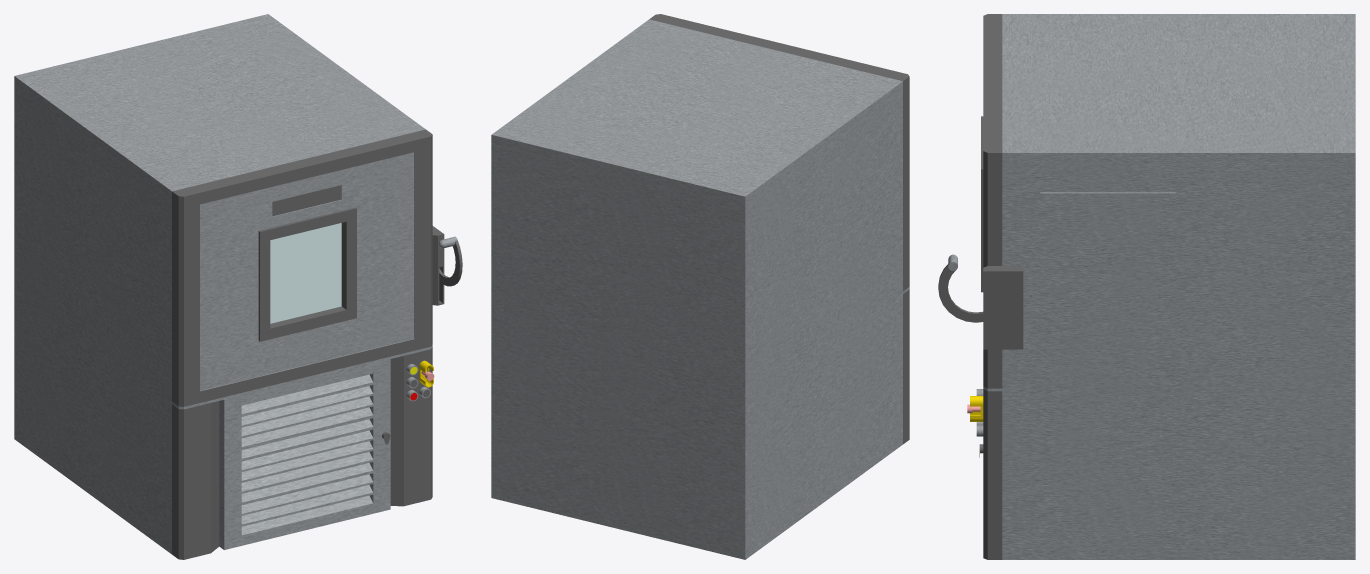
File: equip.glb
3 renders of one model, left to right at view 1: azimuth 30°, elevation 25°; view 2: azimuth 150°, elevation 25°; view 3: azimuth 270°, elevation 25°, orthographic. The views are drawn at different scales.
Parts seen in each view (by area): view 1: Root Node; view 2: Root Node; view 3: Root Node.
Boxes of the visible parts, left/top/right/bottom form: Root Node: left=14, top=14, right=462, bottom=559; Root Node: left=491, top=14, right=909, bottom=559; Root Node: left=938, top=14, right=1355, bottom=559.
Size of the model in its own units: 1.56 by 2.05 by 1.91.
595 materials, 345 textured.
